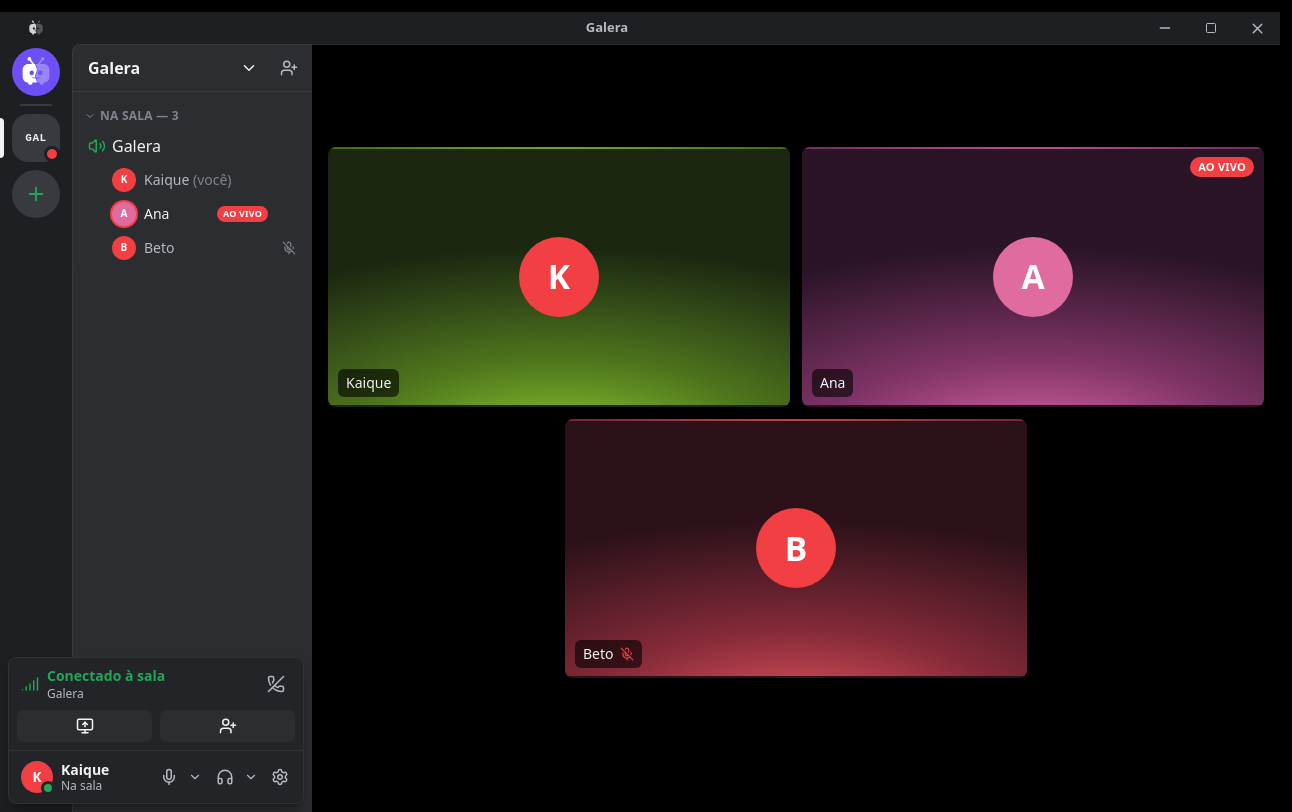
it: voz com alguém em foco › um quadro da faixa troca quem está em foco
What coordinates should you click on to do the following:
click the button with aria-label "Pôr Ana em foco"
I would click on:
 (1033, 277)
Its box is [802,147,1264,406].
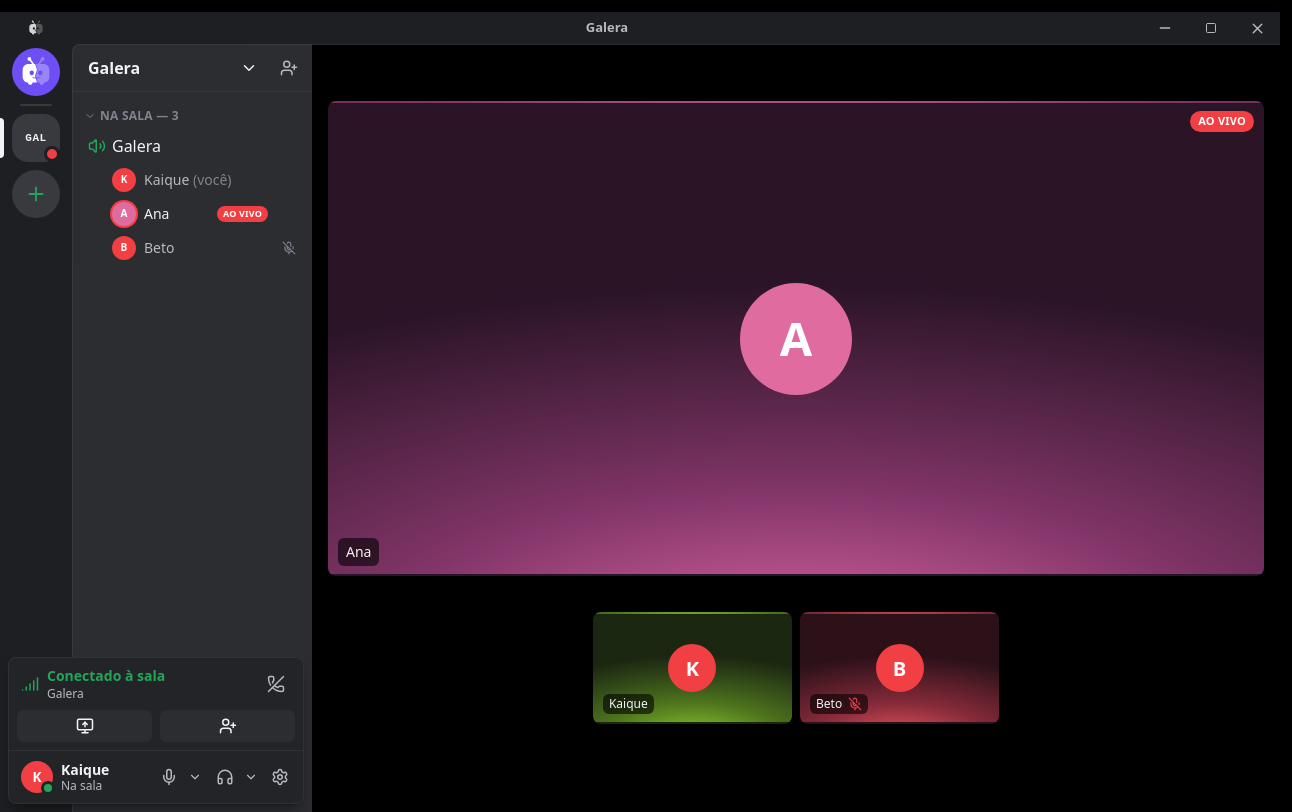
What coordinates should you click on to do the following:
click the button with aria-label "Pôr Kaique em foco"
I would click on:
 (692, 668)
Its box is [593,612,792,724].
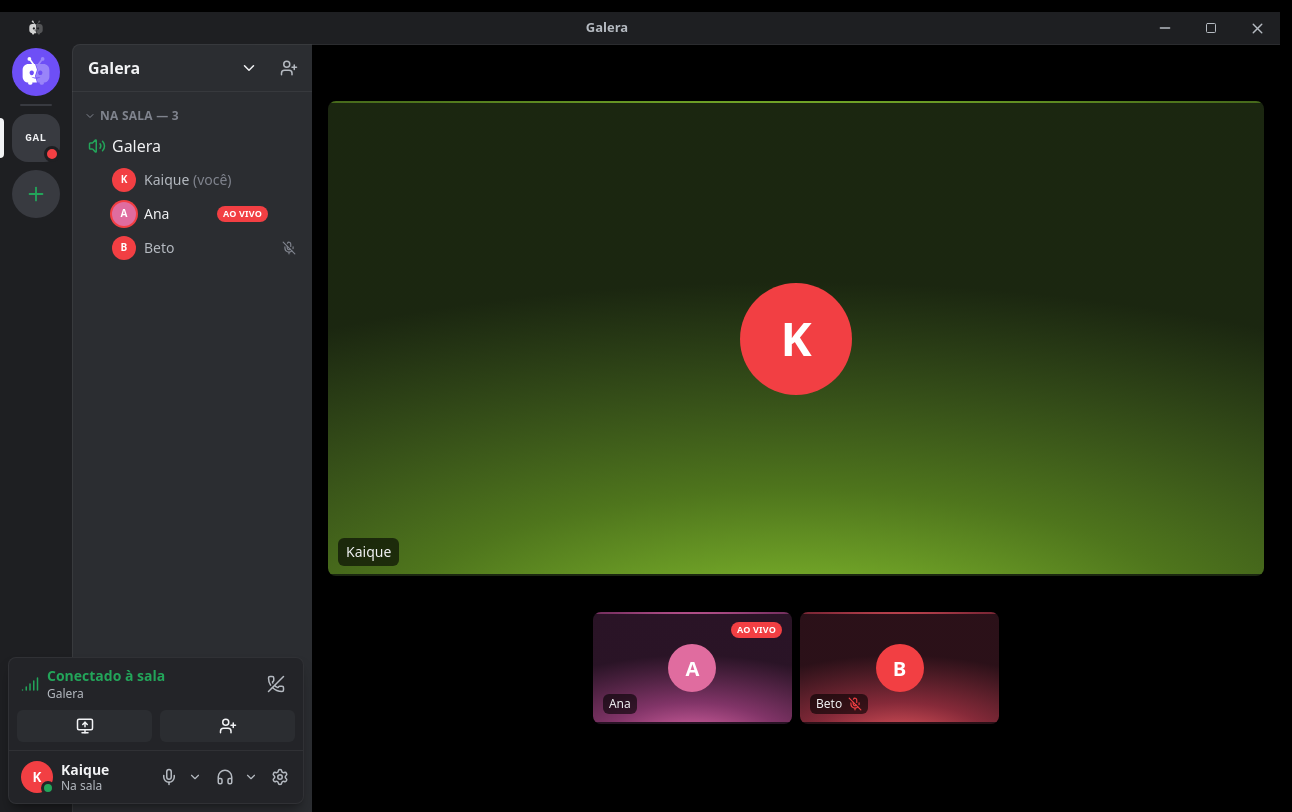
Check: the 1st text "Kaique" is shown, box [346,542,391,562]
Check: the 2nd text "Ana" is shown, box [609,696,631,712]
